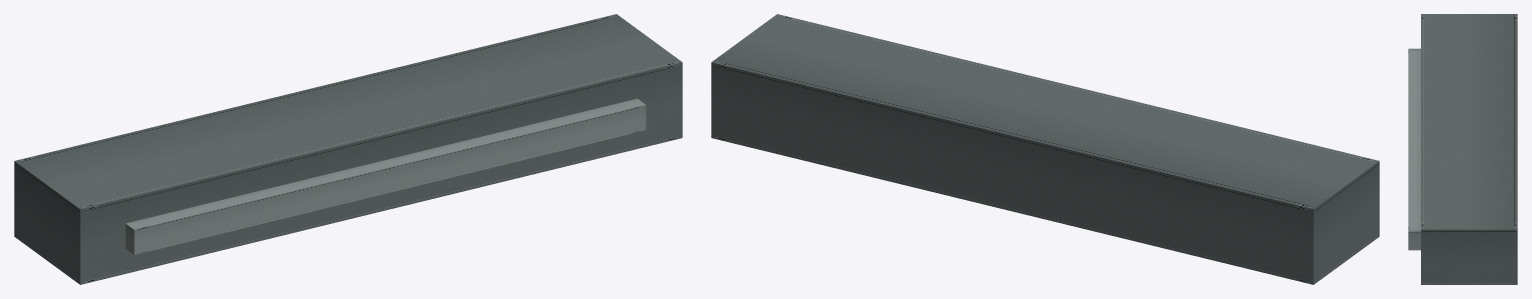
File: beam_2m_LOD2.obj
3 renders of one model, left to right at view 1: azimuth 30°, elevation 25°; view 2: azimuth 150°, elevation 25°; view 3: azimuth 270°, elevation 25°, orthographic. The views are drawn at different scales.
Parts seen in each view (by area): view 1: L02_beam_2m_LOD2; view 2: L02_beam_2m_LOD2; view 3: L02_beam_2m_LOD2.
Part boxes in pixels (<box>): L02_beam_2m_LOD2: <box>14,14,682,284</box>; L02_beam_2m_LOD2: <box>711,14,1379,284</box>; L02_beam_2m_LOD2: <box>1408,14,1517,284</box>.
Size of the model in its own units: 2 by 0.24 by 0.43.
Materials: 1 (1 with a texture image).
